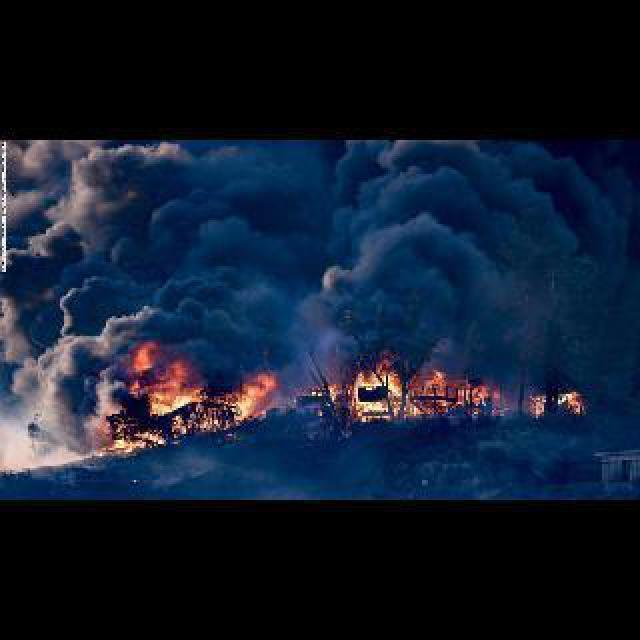Fire: (84, 358, 280, 456), (334, 358, 500, 432), (528, 382, 590, 420)
Smoke: (2, 140, 638, 378)
